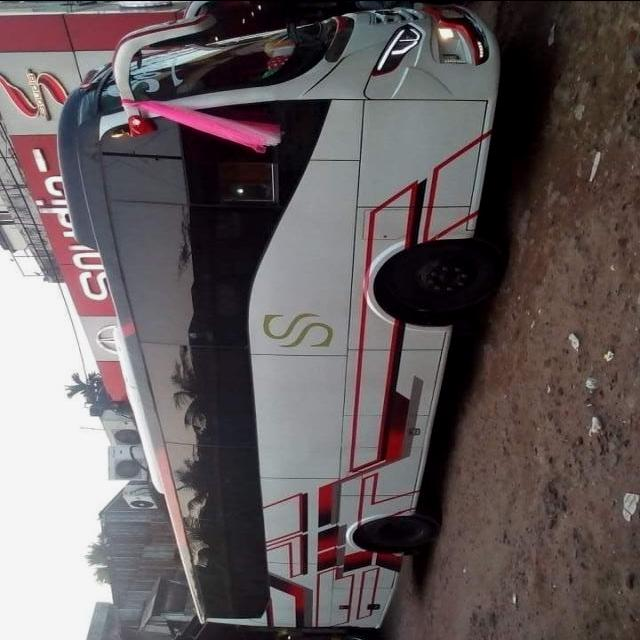bus: (57, 4, 510, 630)
